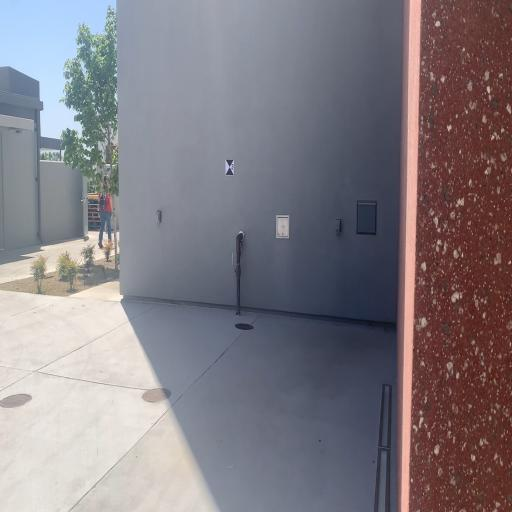target3: (225, 159, 234, 177)
